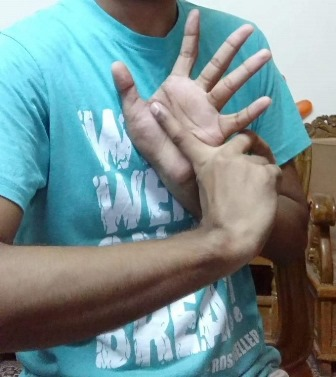oo: (115, 9, 277, 250)
